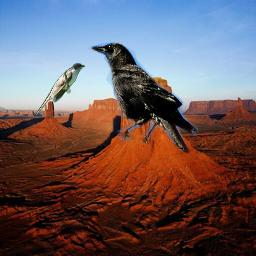Crow: (86, 41, 198, 155)
Cuckoo: (35, 63, 85, 116)
